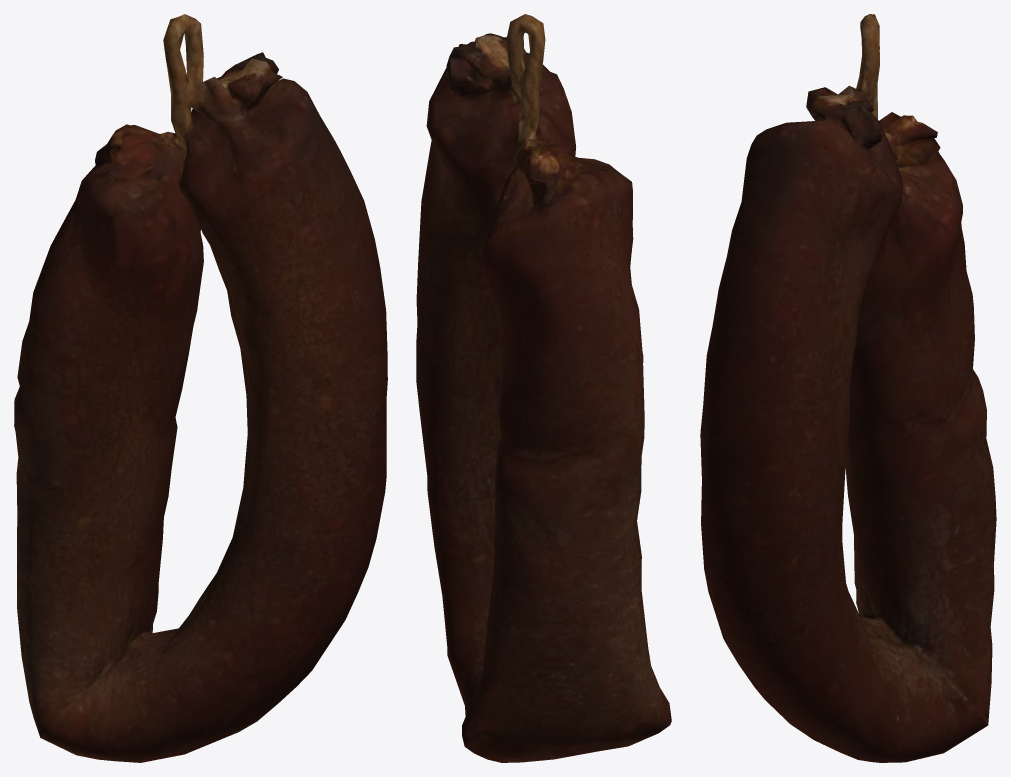
File: sausage_c.glb
The picture shows the model from 3 angles, left to right: view 1: azimuth 30°, elevation 25°; view 2: azimuth 150°, elevation 25°; view 3: azimuth 270°, elevation 25°; orthographic projection. The views are drawn at different scales.
Visible parts, largest first — view 1: wi0ifgr_LOD0_TIER2_000; view 2: wi0ifgr_LOD0_TIER2_000; view 3: wi0ifgr_LOD0_TIER2_000.
Part boxes in pixels (x1=…): wi0ifgr_LOD0_TIER2_000: x1=14, y1=14, x2=387, y2=762; wi0ifgr_LOD0_TIER2_000: x1=416, y1=14, x2=671, y2=762; wi0ifgr_LOD0_TIER2_000: x1=700, y1=14, x2=996, y2=762.
Bounding box in the file's own units: 0.0759 × 0.181 × 0.0655.
1 material, 1 textured.
